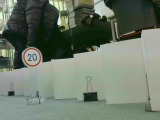speed_20: (19, 46, 43, 68)
